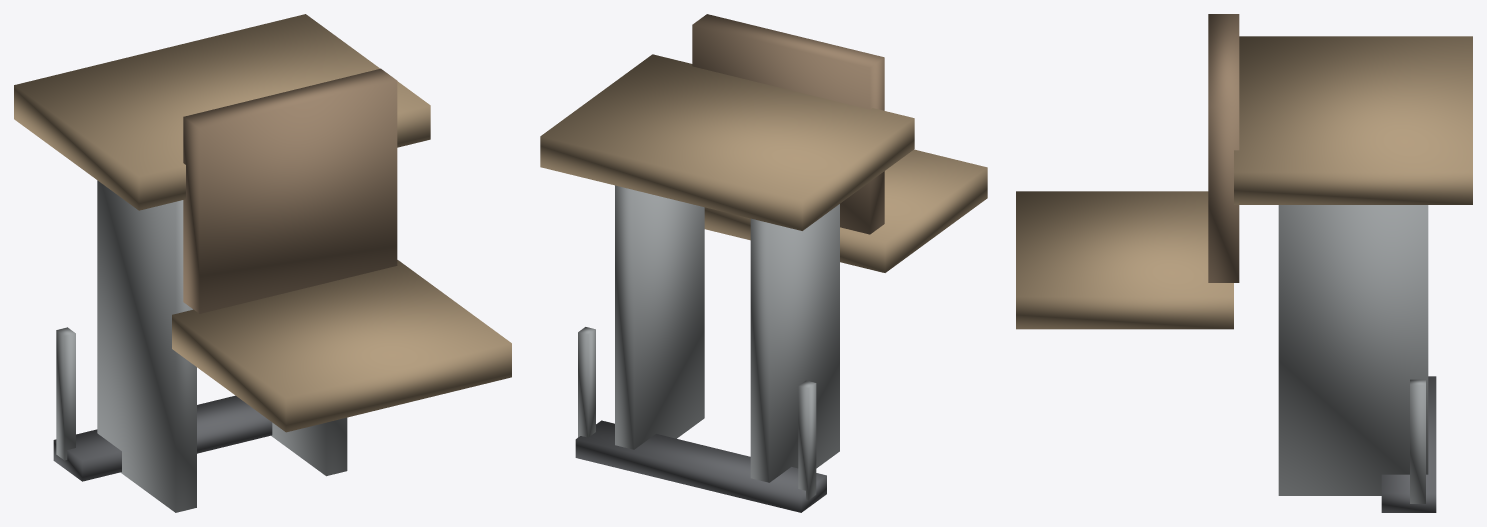
The model's file is classroom_desk__reinforced.glb.
3 renders of one model, left to right at view 1: azimuth 30°, elevation 25°; view 2: azimuth 150°, elevation 25°; view 3: azimuth 270°, elevation 25°, orthographic. The views are drawn at different scales.
Parts seen in each view (by area): view 1: world; view 2: world; view 3: world.
Part boxes in pixels (x1,y1,x2,y2): world: (14, 14, 511, 512); world: (540, 14, 987, 512); world: (1016, 14, 1472, 512).
Bounding box in the file's own units: 0.6386 × 0.867 × 0.9064.
